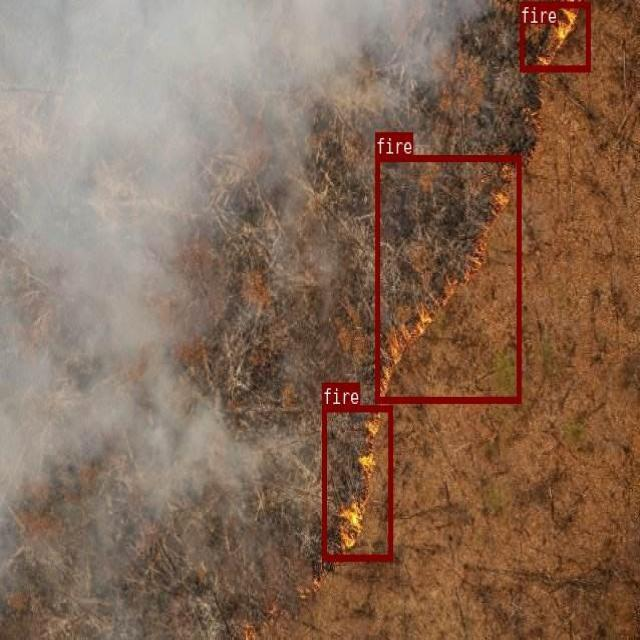fire: (374, 155, 520, 403), (322, 405, 393, 560), (519, 1, 590, 71)
